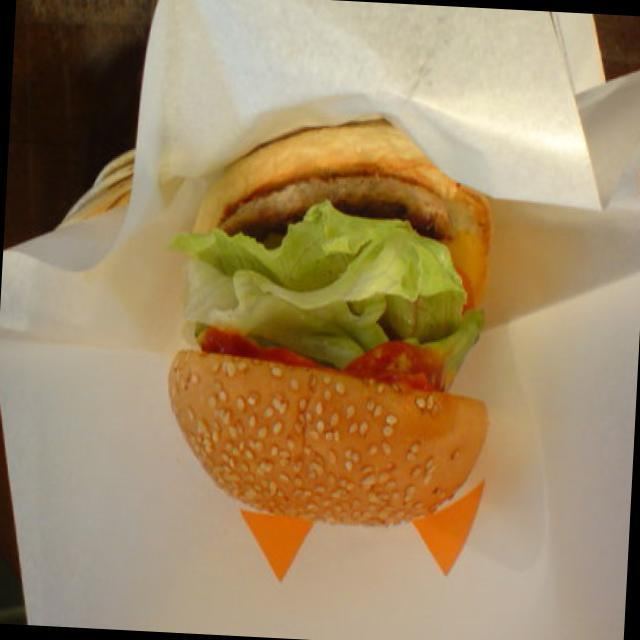Hamburger: (158, 102, 506, 540)
